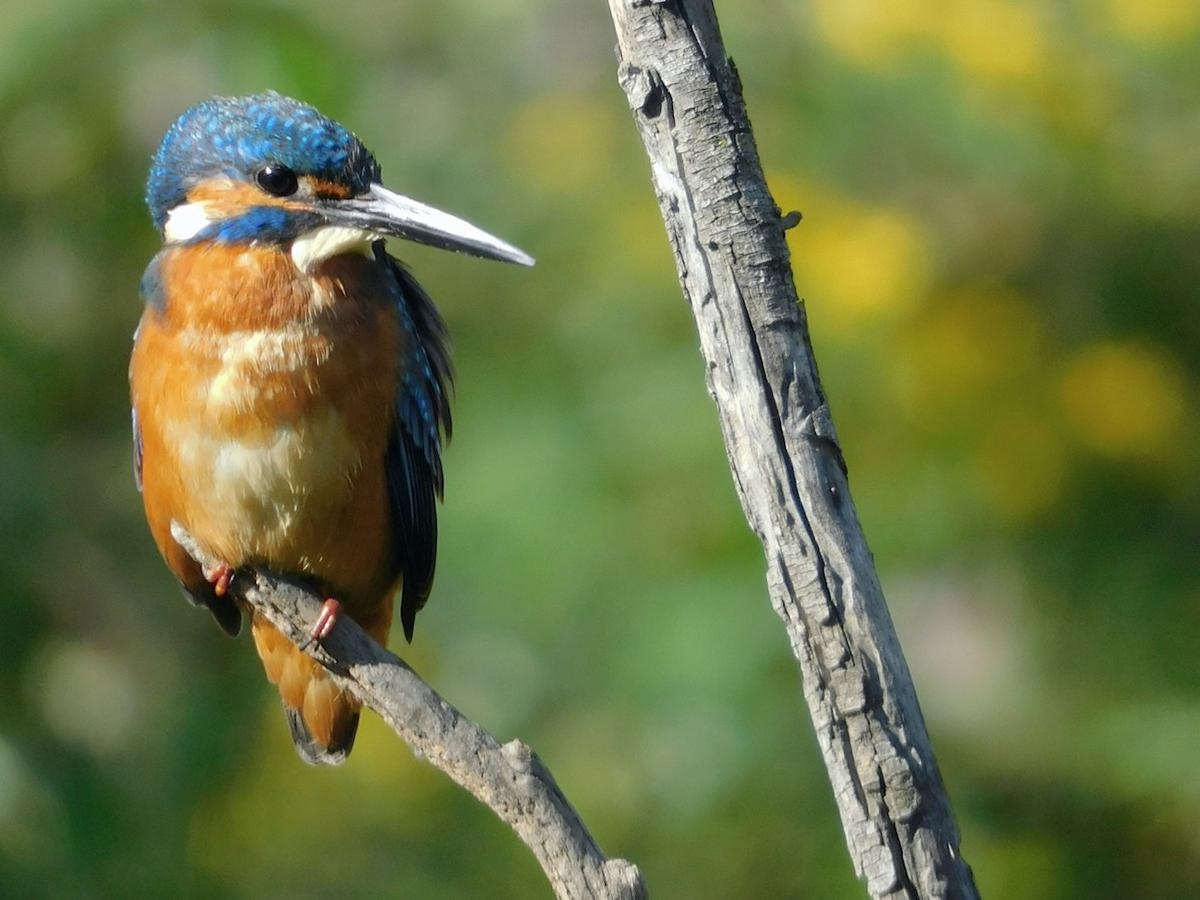kingfisher: (128, 76, 546, 794)
